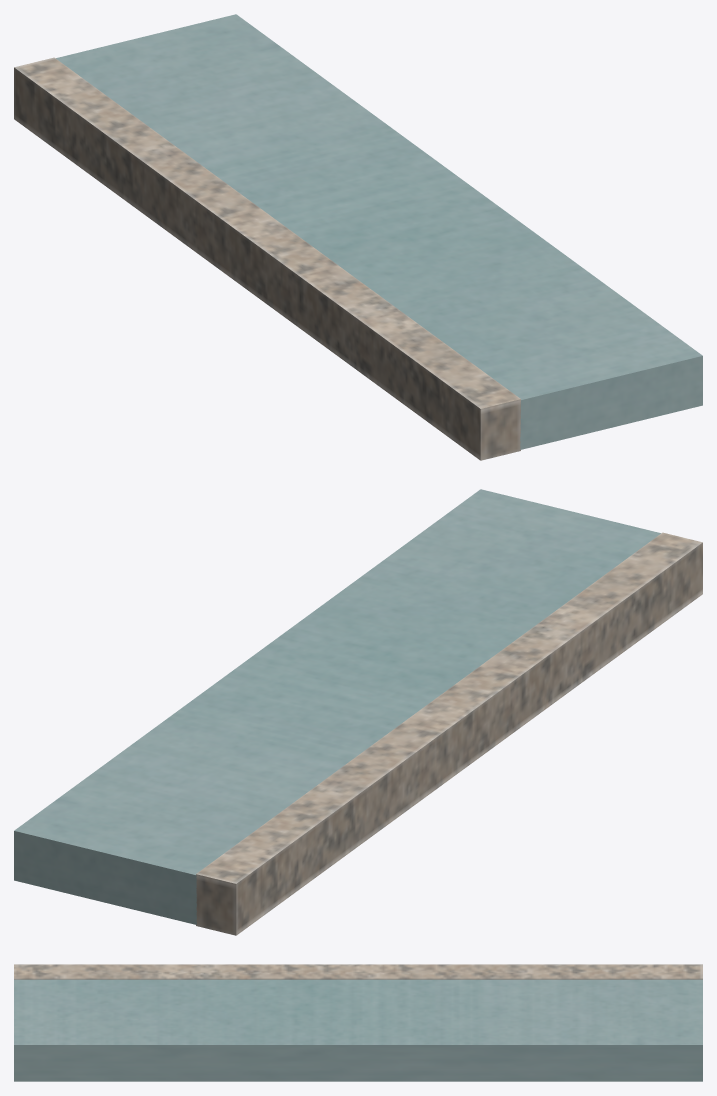
The model's file is set_base_a_02_half.fbx.
3 views of the same model, one above another, from view 1: azimuth 30°, elevation 25°; view 2: azimuth 150°, elevation 25°; view 3: azimuth 270°, elevation 25° (orthographic). The views are drawn at different scales.
Parts seen in each view (by area): view 1: set_base_a_02_half; view 2: set_base_a_02_half; view 3: set_base_a_02_half.
Boxes of the visible parts, x1,y1,x2,y2 form: set_base_a_02_half: (14,14,702,460); set_base_a_02_half: (14,489,702,935); set_base_a_02_half: (14,964,702,1081).
Bounding box in the file's own units: 55 × 12.25 × 200.
